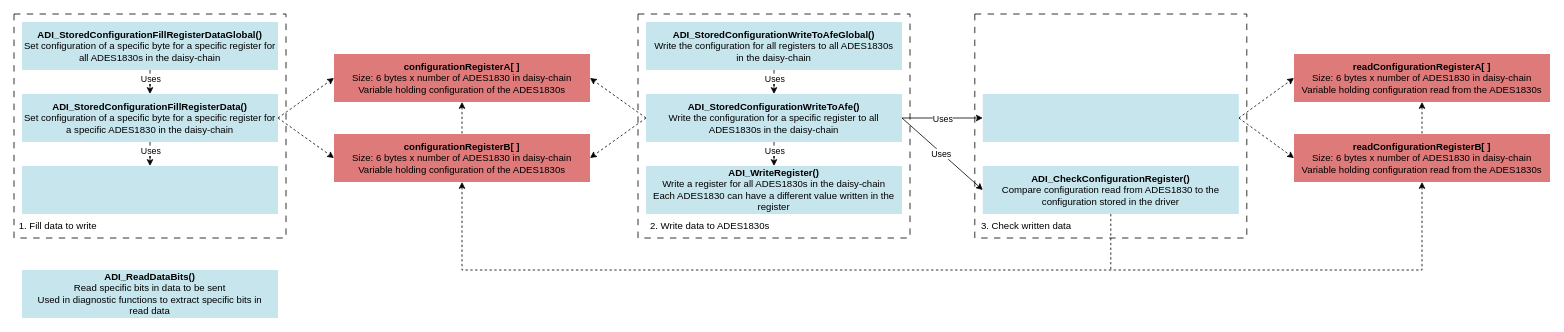
Some shapes in this 1564 by 332 pixel diagram are drawn without their labels. Here are the shapes that lost their labels. From the top down, the box of each, then its label:
(982, 94, 1238, 142): ADI_ReadRegister() Read a register for all ADES1830s in the daisy-chain
(22, 166, 278, 214): ADI_WriteDataBits() Write specific bits in data to be sent
